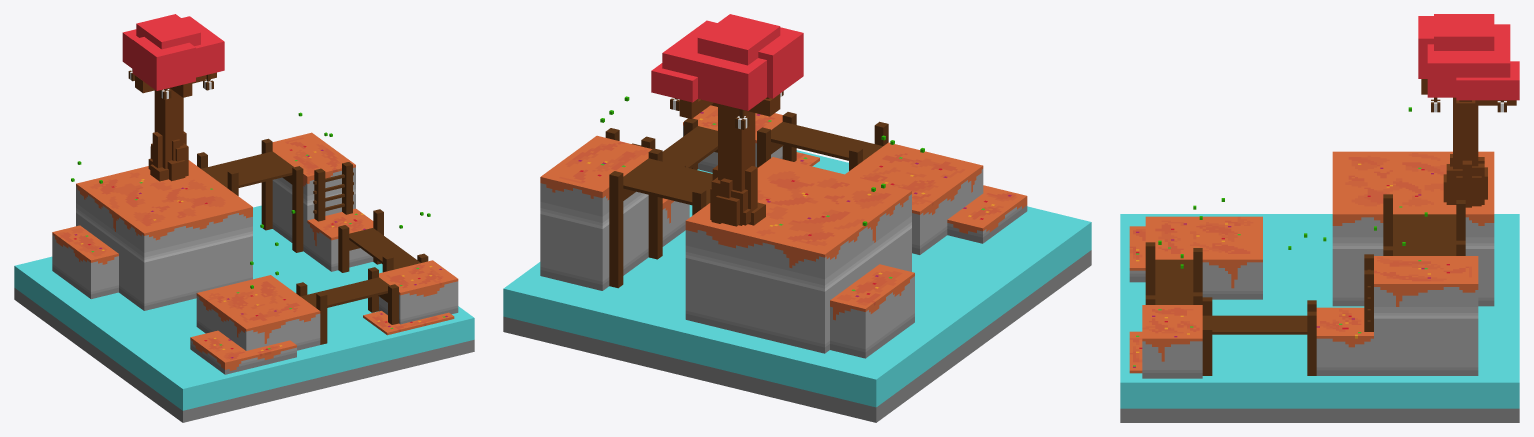
3 renders of one model, left to right at view 1: azimuth 30°, elevation 25°; view 2: azimuth 150°, elevation 25°; view 3: azimuth 270°, elevation 25°, orthographic. The views are drawn at different scales.
Visible parts, largest first — view 1: Object_2; view 2: Object_2; view 3: Object_2.
Boxes of the visible parts, x1=… form: Object_2: x1=14, y1=14, x2=474, y2=422; Object_2: x1=503, y1=14, x2=1091, y2=422; Object_2: x1=1120, y1=14, x2=1519, y2=422.
Bounding box in the file's own units: 126 × 106 × 126.
1 material, 1 textured.
